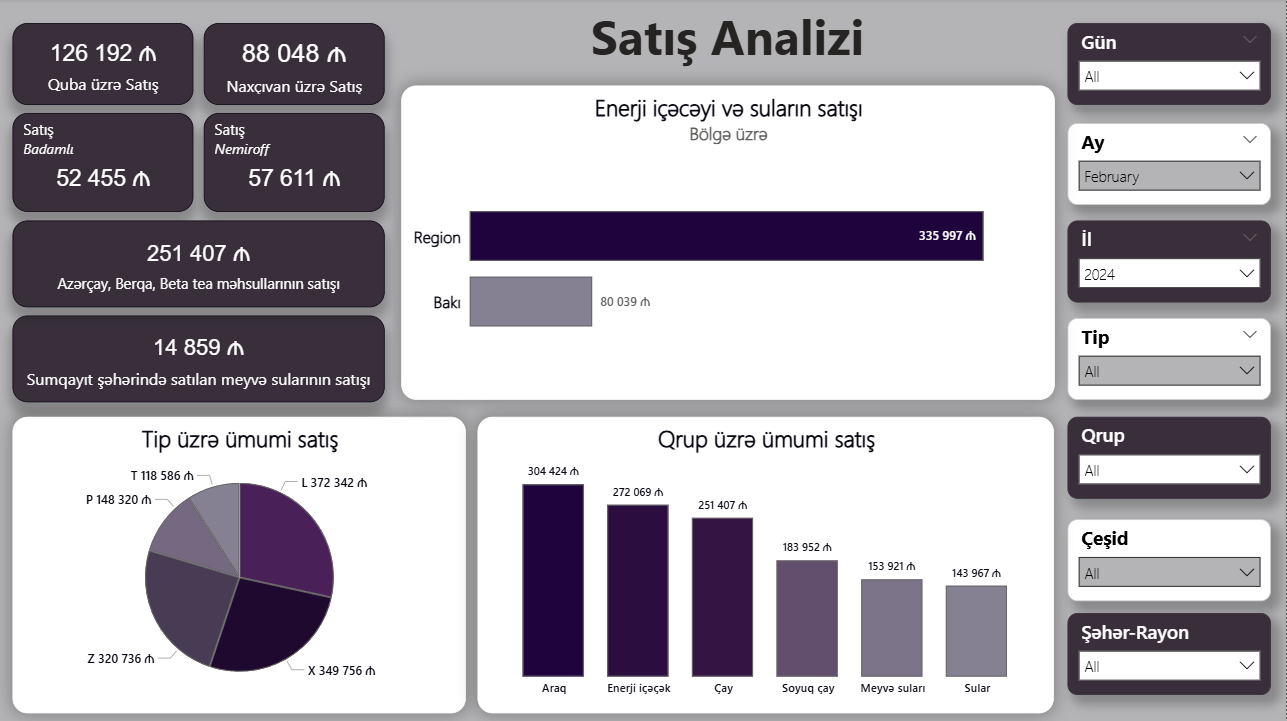

The page's visual inventory and layout, read from the dashboard file:
{"tool":"powerbi","page":{"name":"Satış","canvas":[1280,720],"ordinal":0},"visuals":[{"type":"card","fields":{"Values":["Hesablama.Quba üzrə Satış"]},"box":[12.5,25,180,81.2],"z":0},{"type":"card","fields":{"Values":["Hesablama.Naxçıvan üzrə Satış"]},"box":[202.5,25,180,81.2],"z":1000},{"type":"card","fields":{"Values":["Hesablama.Sumqayıt meyvə suyu"]},"box":[12.5,316.2,370,86.2],"z":2000},{"type":"card","title":"Satış","fields":{"Values":["Hesablama.Badamlı"]},"box":[12.5,115,180,98.8],"z":3000},{"type":"card","title":"Satış","fields":{"Values":["Hesablama.Nemiroff"]},"box":[202.5,115,180,98.8],"z":4000},{"type":"card","fields":{"Values":["Hesablama.azerberqabeta"]},"box":[12.5,221.2,370,86.2],"z":5000},{"type":"slicer","fields":{"Values":["Satış.Tarix.Variation.Date Hierarchy.Year"]},"box":[1062.5,221.2,202.5,81.2],"z":6000},{"type":"slicer","fields":{"Values":["Satış.Tarix.Variation.Date Hierarchy.Month"]},"box":[1062.5,125,202.5,81.2],"z":7000},{"type":"slicer","fields":{"Values":["Satış.Tarix.Variation.Date Hierarchy.Day"]},"box":[1062.5,25,202.5,81.2],"z":8000},{"type":"slicer","fields":{"Values":["Müştəri.Tip"]},"box":[1062.5,318.8,202.5,81.2],"z":9000},{"type":"slicer","fields":{"Values":["Satış.Qrup"]},"box":[1062.5,416.2,202.5,81.2],"z":10000},{"type":"slicer","fields":{"Values":["Satış.Çeşid"]},"box":[1062.5,518.8,202.5,81.2],"z":11000},{"type":"slicer","fields":{"Values":["Müştəri.Şəhər-Rayon"]},"box":[1062.5,612.5,202.5,81.2],"z":12000},{"type":"clusteredBarChart","title":"Enerji içəcəyi və suların satışı","fields":{"Y":["Hesablama.Bölgəyə görə enerjiç və su"],"Category":["Müştəri.Bölgə"]},"box":[398.8,87.5,650,312.5],"z":13000},{"type":"pieChart","title":"Tip üzrə ümumi satış","fields":{"Category":["Müştəri.Tip"],"Y":["Hesablama.Ümumi satış"]},"box":[12.5,416.2,451.2,295],"z":14000},{"type":"clusteredColumnChart","title":"Qrup üzrə ümumi satış","fields":{"Category":["Satış.Qrup"],"Y":["Hesablama.Ümumi satış"]},"box":[475,416.2,573.8,295],"z":15000},{"type":"textbox","box":[573.5,0,301,74.6],"z":16000}]}

Visuals, with their boxes in screenshot pixels (x1, y1, x2, y2), scaled from the page's 1280x720 canvas onto the 1287x721 screenshot:
card - Hesablama.Quba üzrə Satış: 13, 25, 194, 106
card - Hesablama.Naxçıvan üzrə Satış: 204, 25, 385, 106
card - Hesablama.Sumqayıt meyvə suyu: 13, 317, 385, 403
"Satış" card: 13, 115, 194, 214
"Satış" card: 204, 115, 385, 214
card - Hesablama.azerberqabeta: 13, 222, 385, 308
slicer - Satış.Tarix.Variation.Date Hierarchy.Year: 1068, 222, 1272, 303
slicer - Satış.Tarix.Variation.Date Hierarchy.Month: 1068, 125, 1272, 206
slicer - Satış.Tarix.Variation.Date Hierarchy.Day: 1068, 25, 1272, 106
slicer - Müştəri.Tip: 1068, 319, 1272, 401
slicer - Satış.Qrup: 1068, 417, 1272, 498
slicer - Satış.Çeşid: 1068, 520, 1272, 601
slicer - Müştəri.Şəhər-Rayon: 1068, 613, 1272, 695
"Enerji içəcəyi və suların satışı" clusteredBarChart: 401, 88, 1055, 401
"Tip üzrə ümumi satış" pieChart: 13, 417, 466, 712
"Qrup üzrə ümumi satış" clusteredColumnChart: 478, 417, 1055, 712
textbox: 577, 0, 879, 75
